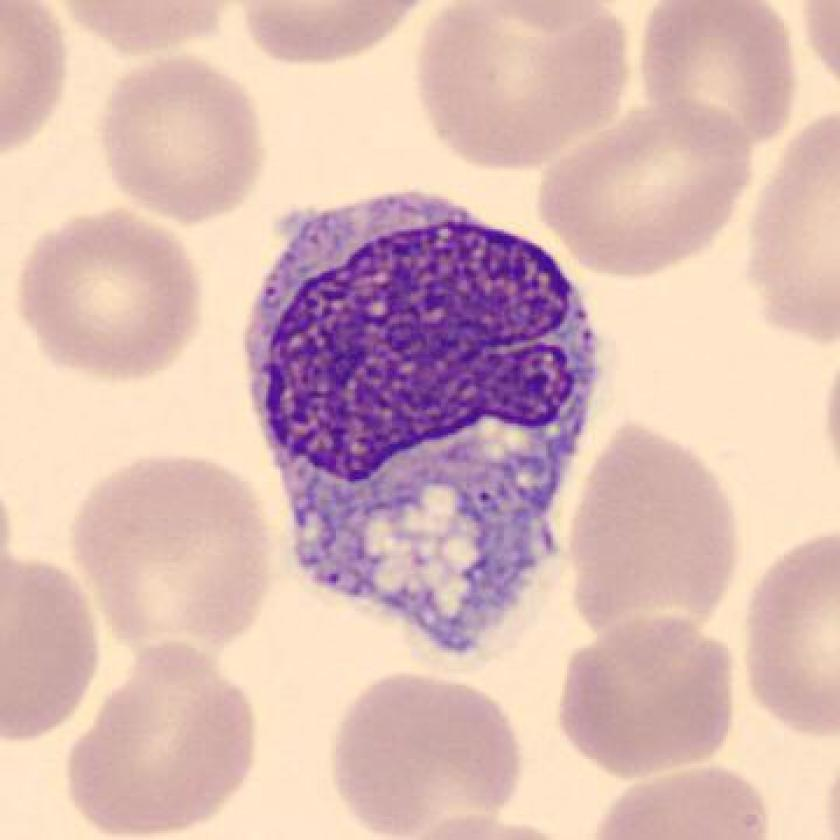monocyte: (237, 179, 619, 679)
